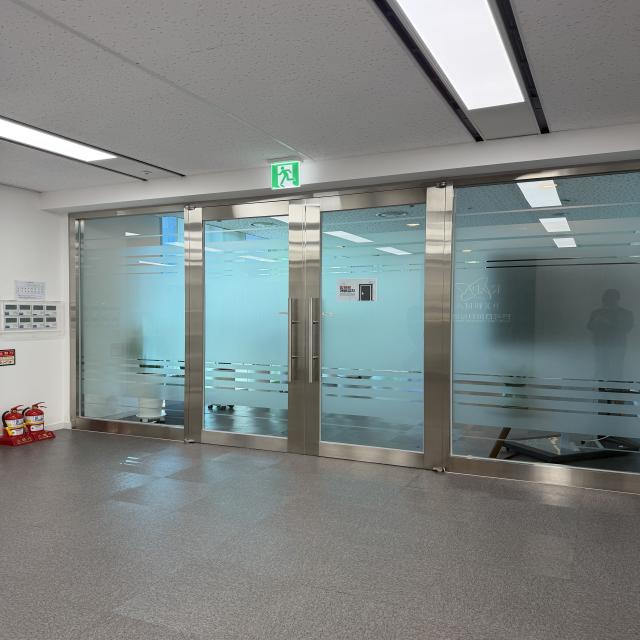front_door: (70, 156, 639, 492)
